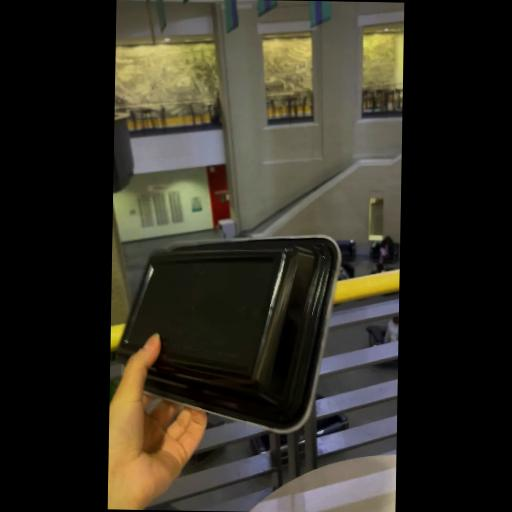rigid_plastic_container: (114, 232, 340, 432)
